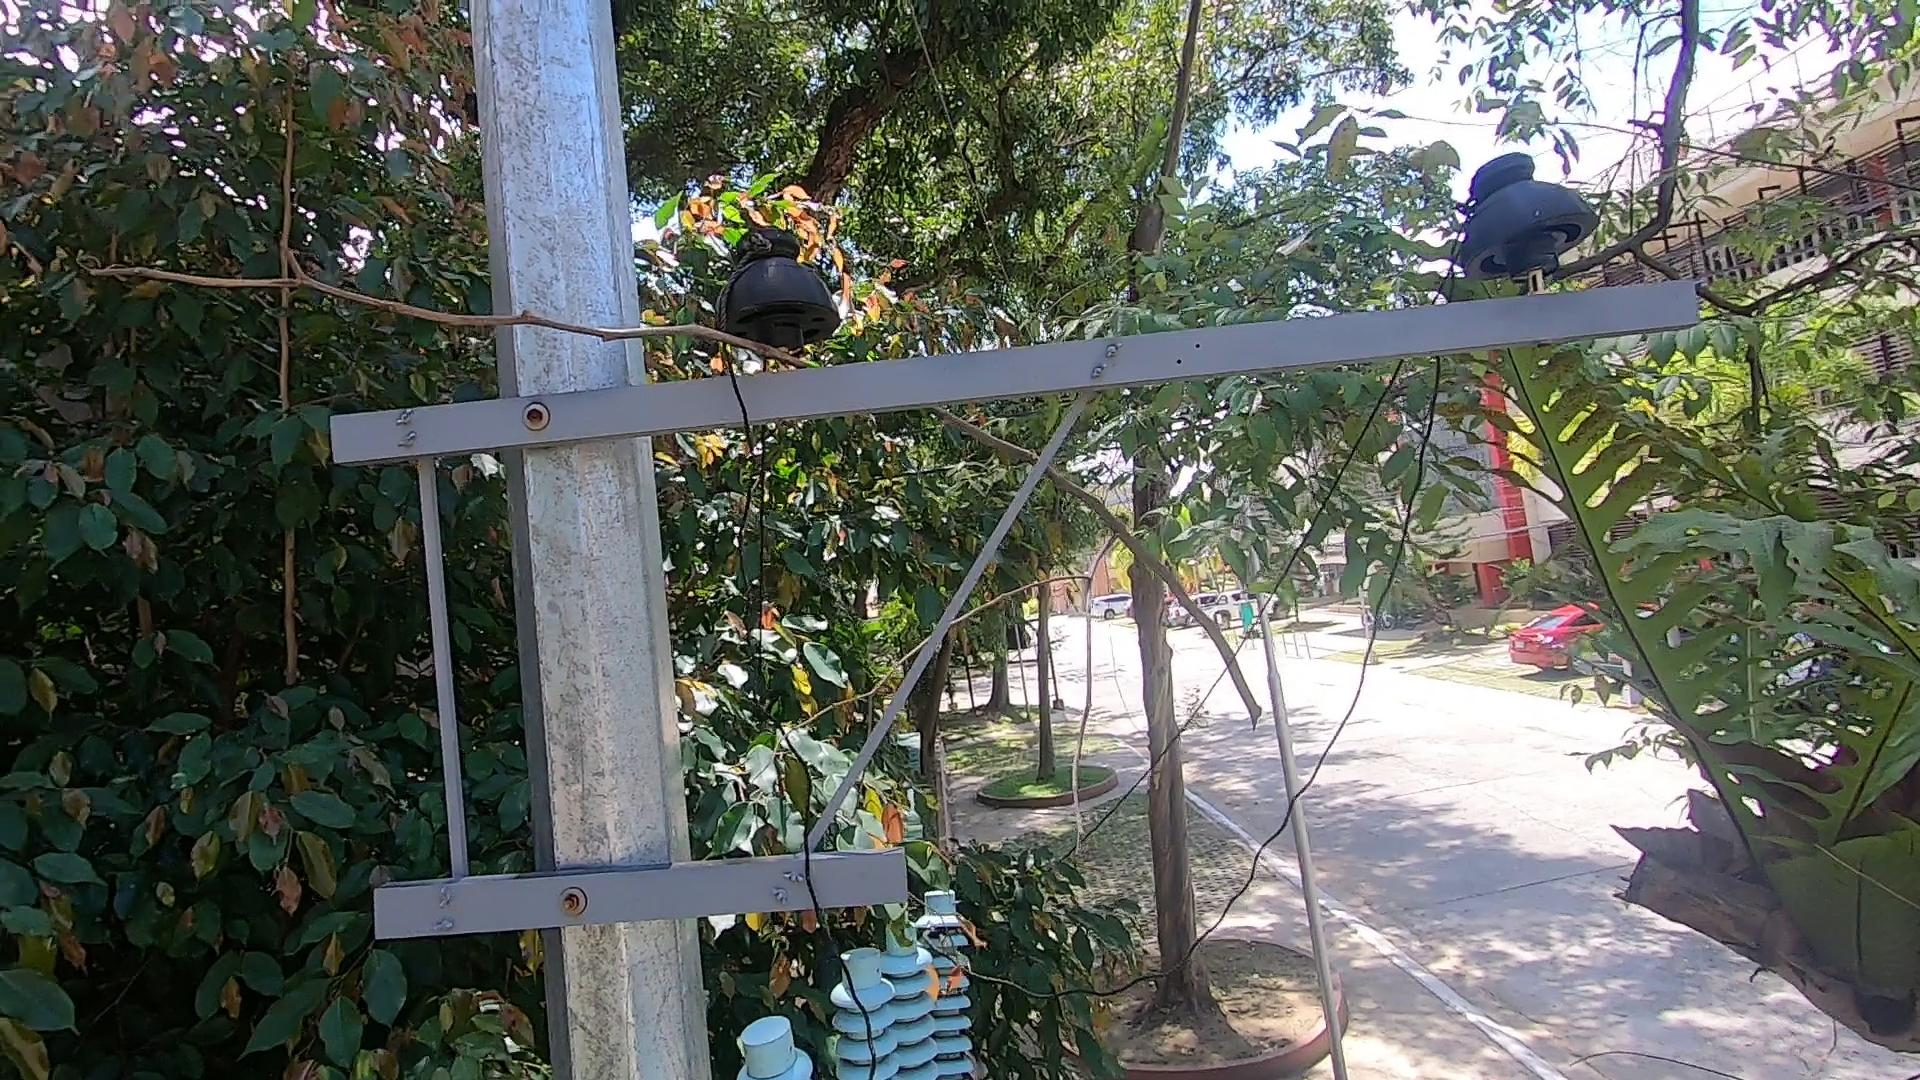leaf: (920, 924, 978, 1004)
tree branch: (94, 251, 1283, 741)
